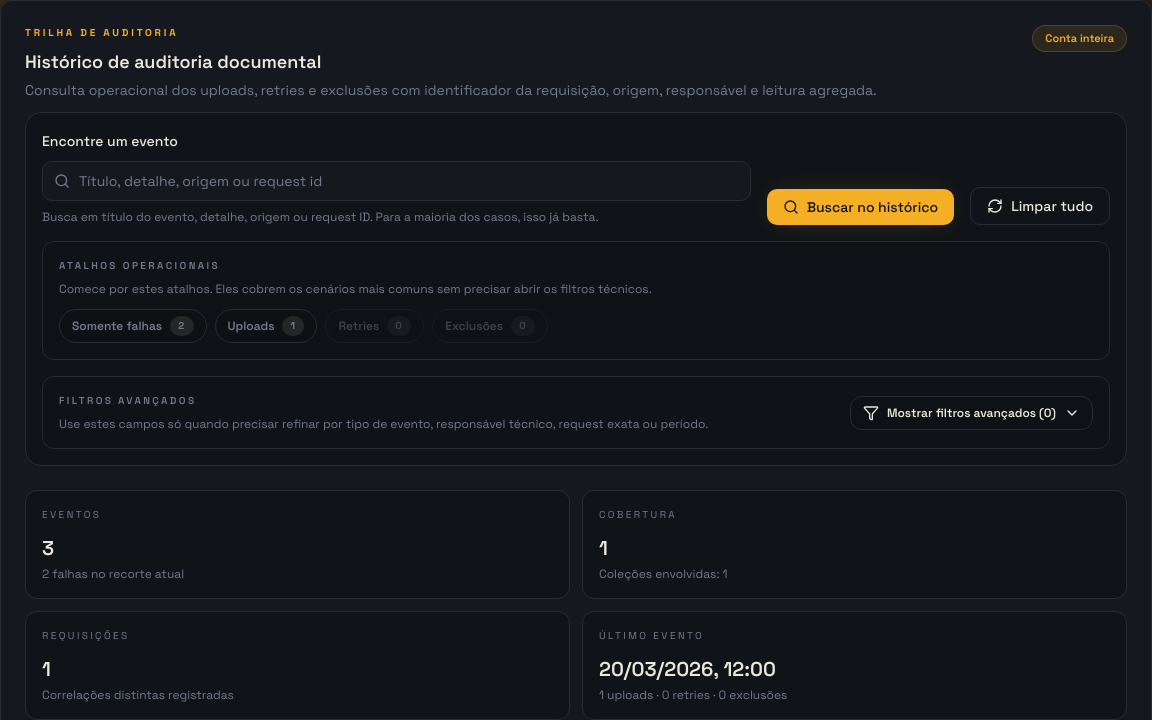
it: DocumentAuditExplorer › applies the failure quick filter from the summary shortcuts
Step 1. Click the button "Somente falhas 2" → (133,326), box [59,309,206,343]
(page scrolled)
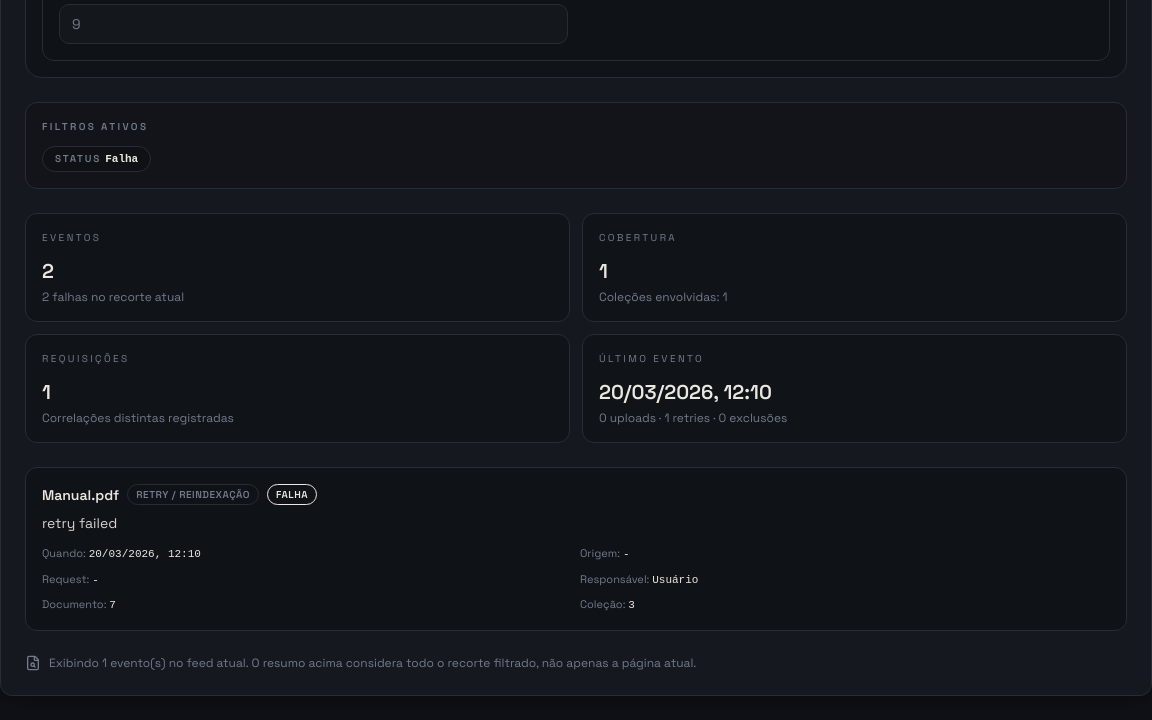
Expected: the text "retry failed" is shown, [42,514,117,532]
